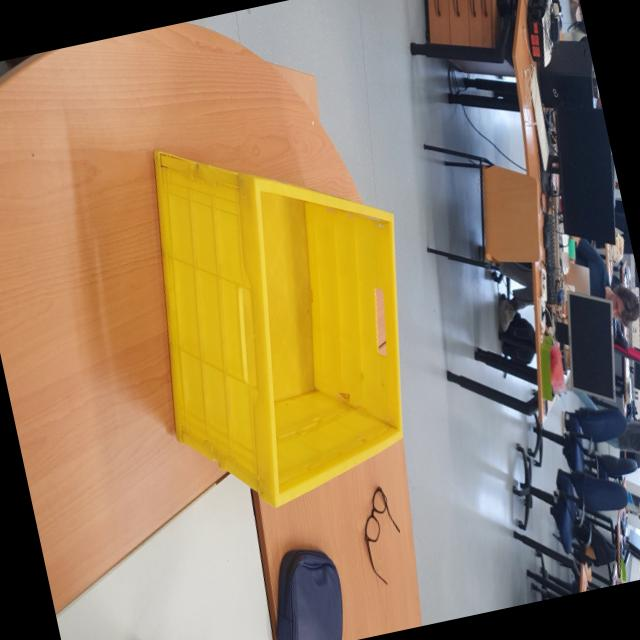box: (111, 100, 458, 528)
